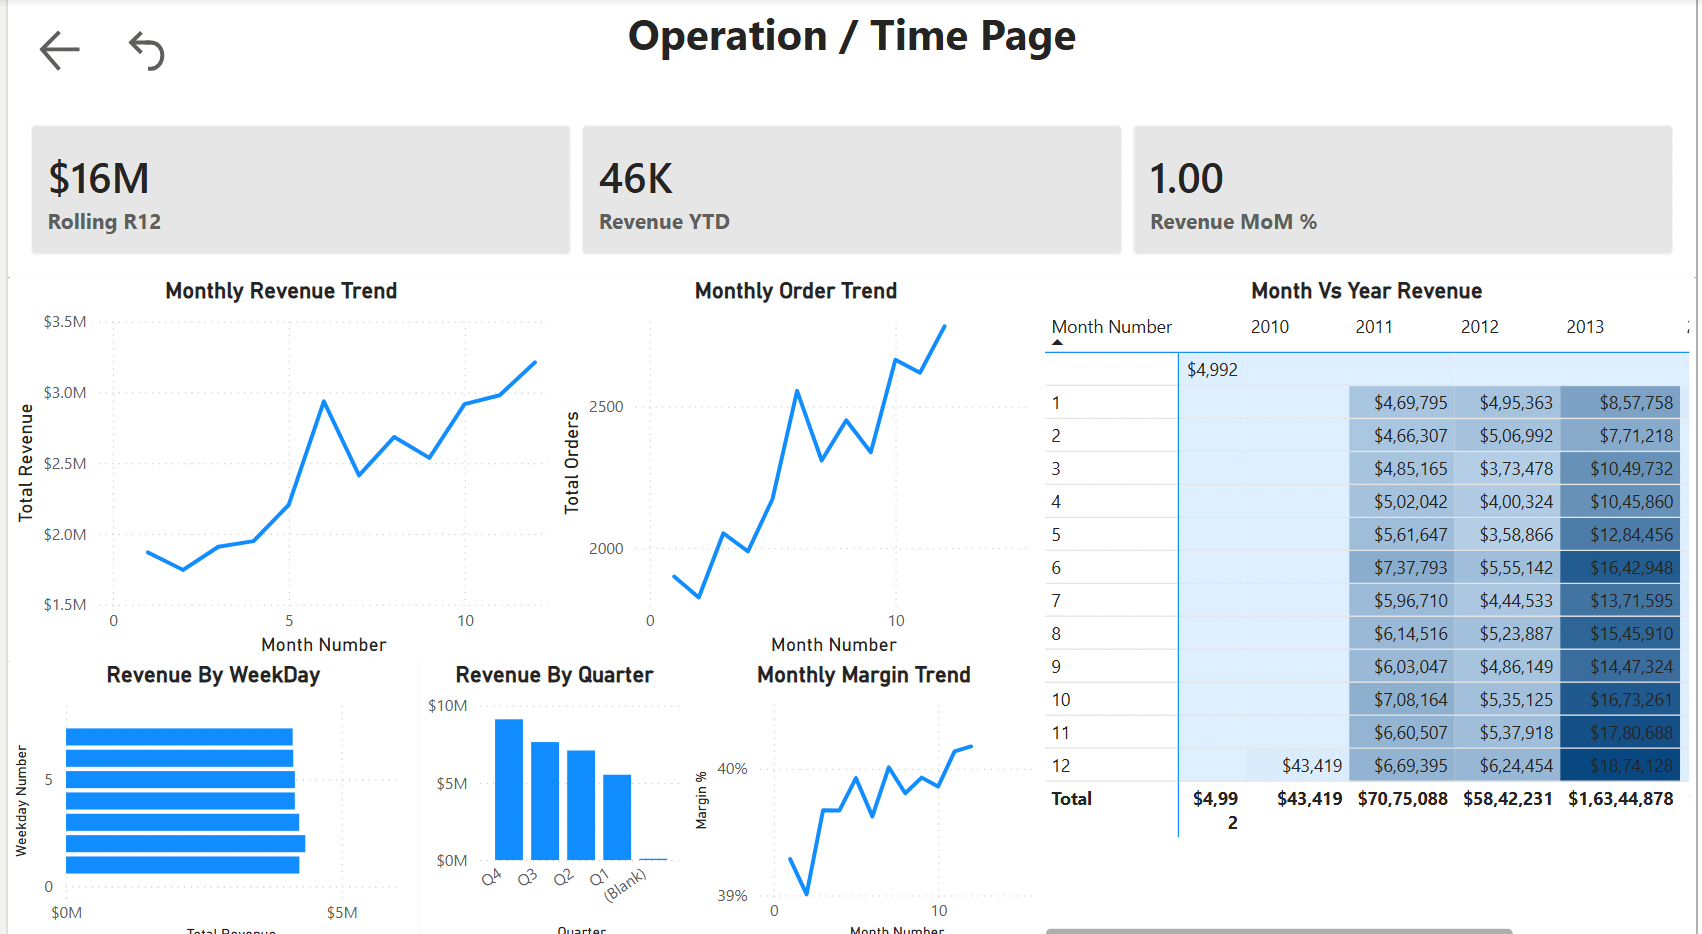

Layout of this report page (visuals, bound fields, positions):
{"tool":"powerbi","page":{"name":"Operation / Time ","canvas":[1280,720],"ordinal":4},"visuals":[{"type":"shape","title":"Background ","box":[0,0,1280,719.9],"z":0},{"type":"actionButton","title":"Home Page","box":[84.9,19.3,50.2,40.5],"z":0,"group":"g1"},{"type":"textbox","box":[0,0,1280,79.1],"z":1000},{"type":"actionButton","title":"Previous Page","box":[19.3,19.3,65.6,40.5],"z":2000,"group":"g1"},{"type":"cardVisual","fields":{"Data":["_measures.Rolling R12","_measures.Revenue YTD","_measures.Revenue MoM %"]},"box":[0,79.2,1280,133.2],"z":2000},{"type":"lineChart","title":"Monthly Revenue Trend","fields":{"Y":["_measures.total_revenue"],"Category":["date_dim.Month Number"]},"box":[0,212,414.5,291.1],"z":3000},{"type":"barChart","title":"Revenue By WeekDay","fields":{"Y":["_measures.total_revenue"],"Category":["date_dim.Weekday Number"]},"box":[0,503.1,311.7,216.8],"z":4000},{"type":"columnChart","title":"Revenue By Quarter","fields":{"Y":["_measures.total_revenue"],"Category":["date_dim.Quarter"]},"box":[311.7,503.1,204.1,215.2],"z":5000},{"type":"lineChart","title":"Monthly Order Trend","fields":{"Y":["_measures.total_orders"],"Category":["date_dim.Month Number"]},"box":[414.5,212,367.1,291.1],"z":6000},{"type":"lineChart","title":"Monthly Margin Trend","fields":{"Y":["_measures.margin_percentage"],"Category":["date_dim.Month Number"]},"box":[515,503.7,267,215.9],"z":7000},{"type":"pivotTable","title":"Month Vs Year Revenue ","fields":{"Rows":["date_dim.Month Number"],"Columns":["date_dim.Year"],"Values":["_measures.total_revenue"]},"box":[781,212.3,499,506.5],"z":8000},{"type":"group","id":"g1","title":"Page Navigators","box":[19.3,19.3,115.8,40.5],"z":9000}]}

Visuals, with their boxes in screenshot pixels (x1, y1, x2, y2), scaled from the page's 1280x720 canvas onto the 1702x934 screenshot:
"Background " shape: <region>0, 0, 1701, 933</region>
"Home Page" actionButton: <region>113, 25, 180, 78</region>
textbox: <region>0, 0, 1701, 103</region>
"Previous Page" actionButton: <region>26, 25, 113, 78</region>
cardVisual - _measures.Rolling R12 x _measures.Revenue YTD: <region>0, 103, 1701, 276</region>
"Monthly Revenue Trend" lineChart: <region>0, 275, 551, 653</region>
"Revenue By WeekDay" barChart: <region>0, 653, 414, 933</region>
"Revenue By Quarter" columnChart: <region>414, 653, 686, 932</region>
"Monthly Order Trend" lineChart: <region>551, 275, 1039, 653</region>
"Monthly Margin Trend" lineChart: <region>685, 653, 1040, 933</region>
"Month Vs Year Revenue " pivotTable: <region>1038, 275, 1701, 932</region>
"Page Navigators" group: <region>26, 25, 180, 78</region>
